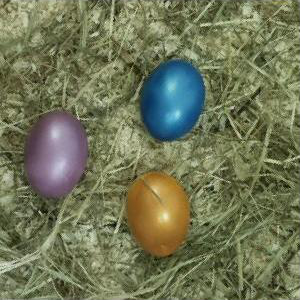egg: (126, 172, 191, 259), (25, 112, 88, 199), (141, 61, 206, 141)
